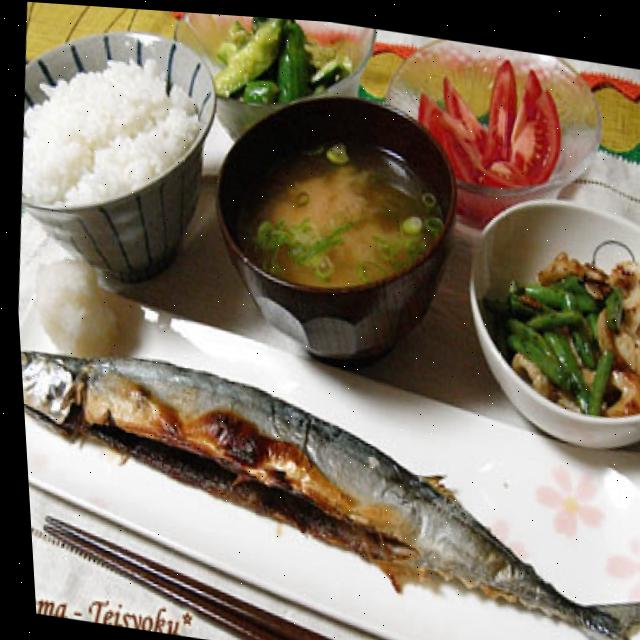熟制海鲜: (13, 277, 640, 640)
